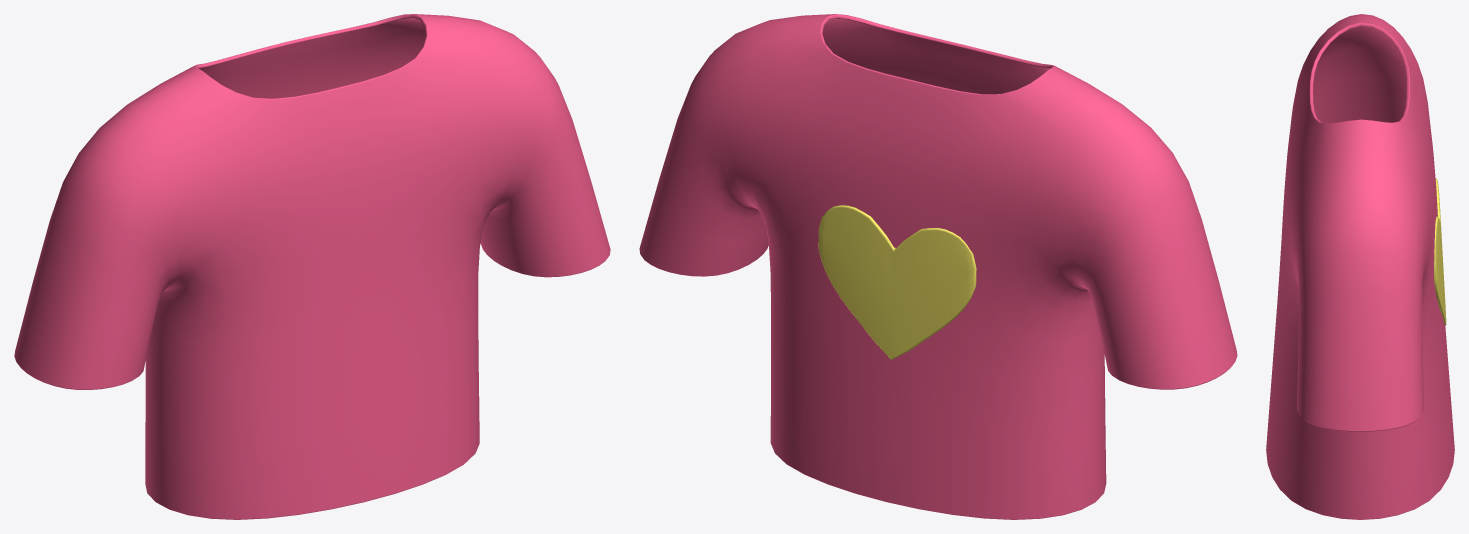
The model's file is Public_13_T_Shirt_1.glb.
The picture shows the model from 3 angles, left to right: view 1: azimuth 30°, elevation 25°; view 2: azimuth 150°, elevation 25°; view 3: azimuth 270°, elevation 25°; orthographic projection. The views are drawn at different scales.
Visible parts, largest first — view 1: Public_13_T_Shirt_1; view 2: Public_13_T_Shirt_1; view 3: Public_13_T_Shirt_1.
Part boxes in pixels (x1,y1,x2,y2): Public_13_T_Shirt_1: [14, 14, 610, 519]; Public_13_T_Shirt_1: [639, 14, 1237, 519]; Public_13_T_Shirt_1: [1266, 14, 1454, 519].
Bounding box in the file's own units: 0.8008 × 0.5625 × 0.2531.
1 material, 1 textured.
